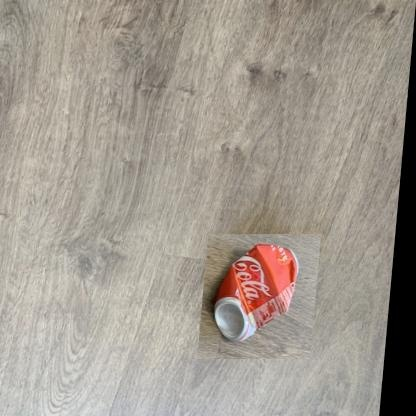trash: (214, 243, 297, 340)
